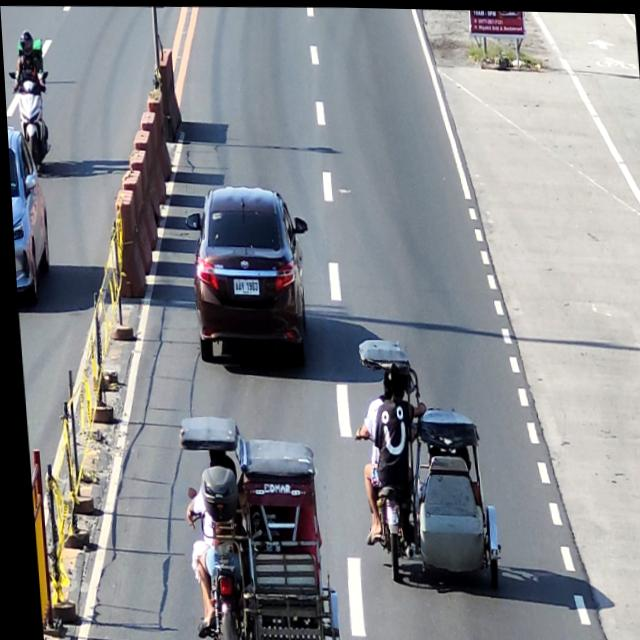Car: (182, 183, 314, 370), (6, 126, 50, 299)
License-Plate: (229, 277, 256, 293)
Motorcycle: (8, 68, 53, 167)
Tricycle: (346, 335, 498, 592), (173, 412, 334, 640)
